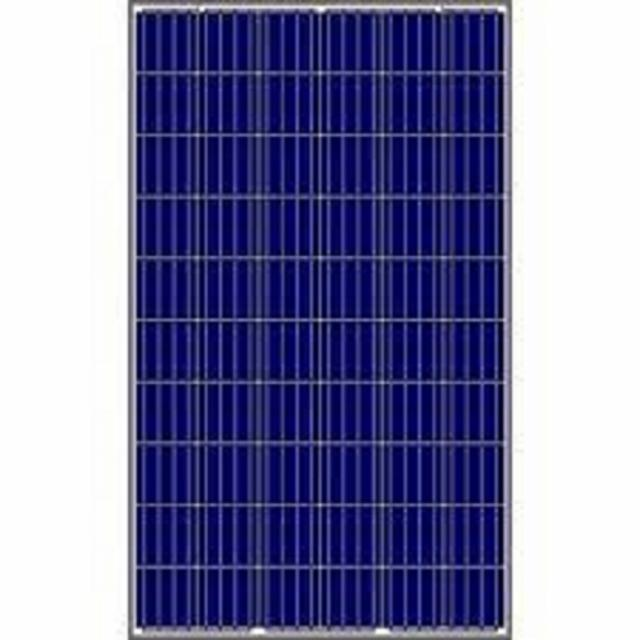crack: (125, 5, 572, 640)
